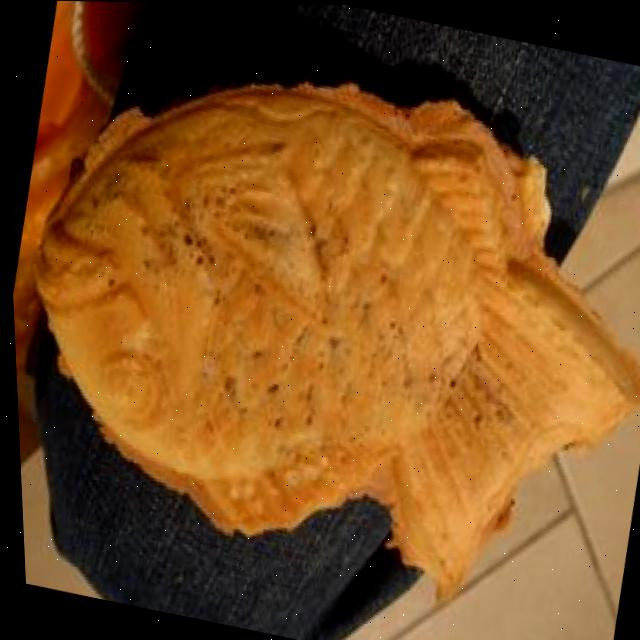熟制海鲜: (1, 26, 640, 640)
